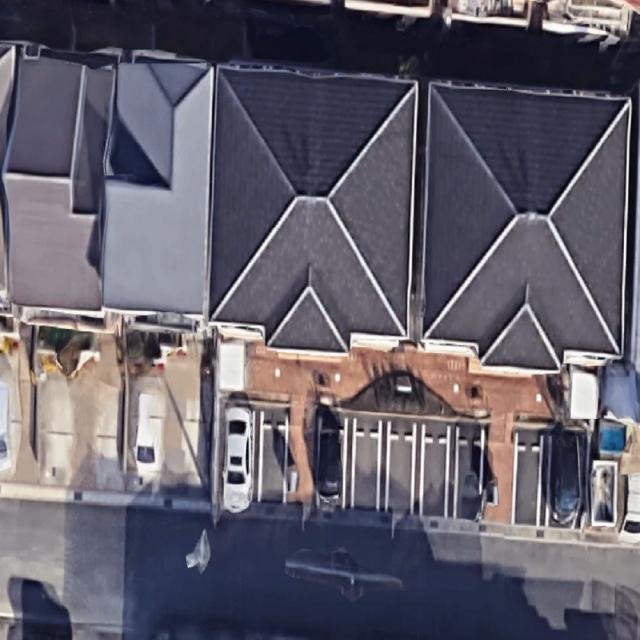Batiment: (421, 82, 631, 370), (209, 67, 418, 351), (4, 56, 115, 309), (102, 62, 214, 312)
